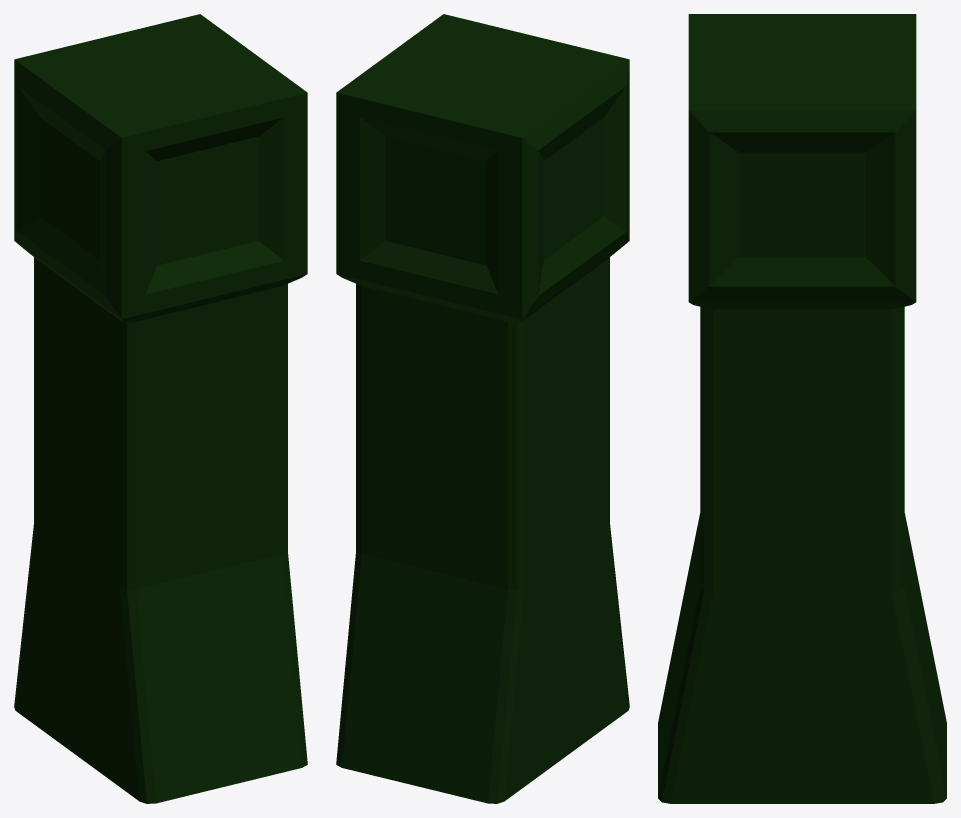
Rendered from tower5.fbx.
3 renders of one model, left to right at view 1: azimuth 30°, elevation 25°; view 2: azimuth 150°, elevation 25°; view 3: azimuth 270°, elevation 25°, orthographic. The views are drawn at different scales.
Visible parts, largest first — view 1: tower5; view 2: tower5; view 3: tower5.
Boxes of the visible parts, x1,y1,x2,y2 form: tower5: [14, 14, 307, 803]; tower5: [336, 14, 629, 803]; tower5: [658, 14, 946, 803].
Size of the model in its own units: 2.06 by 6.52 by 2.44.
